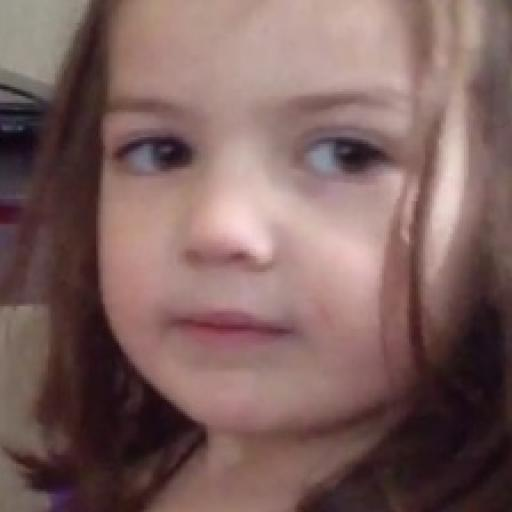Autism: (66, 8, 512, 434)
